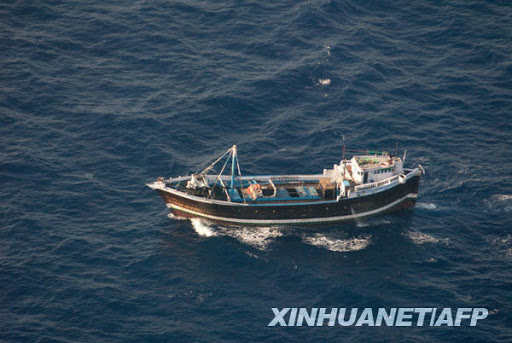boat: (142, 142, 427, 228)
